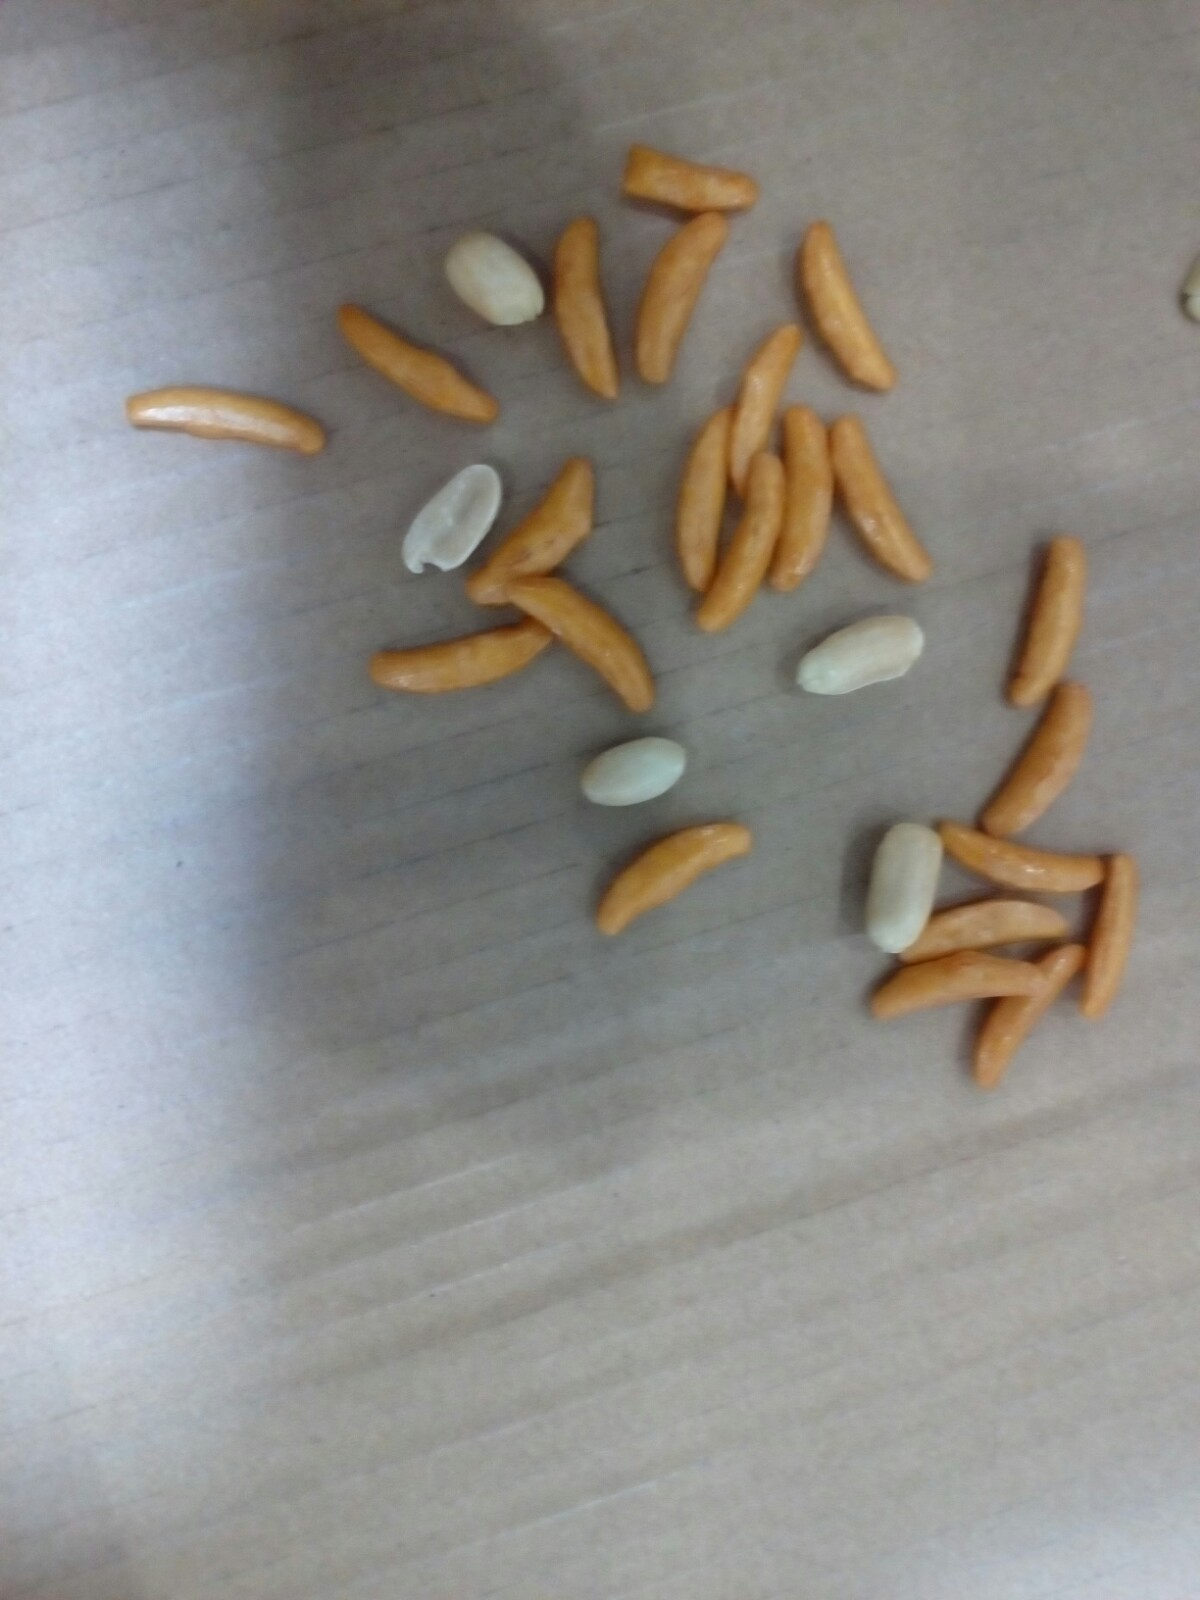peanut: (426, 223, 555, 333), (400, 457, 507, 585), (794, 610, 926, 704), (862, 816, 950, 952), (574, 724, 696, 810)
